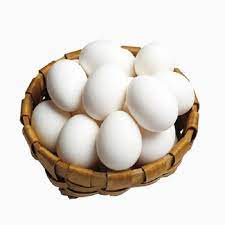eggs: (47, 29, 160, 185), (126, 66, 173, 126), (74, 63, 123, 119), (39, 53, 91, 95), (52, 111, 90, 164), (99, 114, 133, 172), (23, 95, 59, 133)
